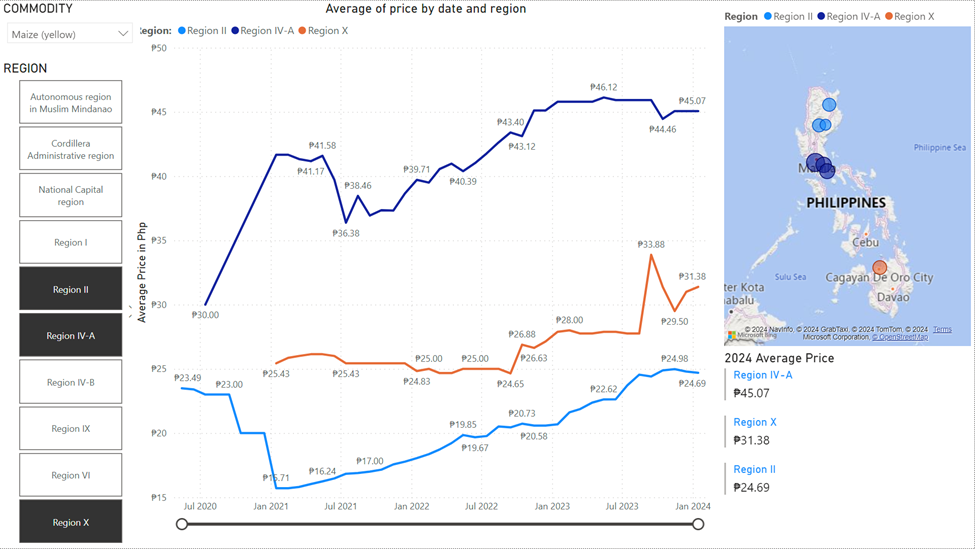

The page's visual inventory and layout, read from the dashboard file:
{"tool":"powerbi","page":{"name":"Price Trend by Region and Commodity","canvas":[1280,720],"ordinal":0},"visuals":[{"type":"slicer","title":"REGION","fields":{"Values":["wfp_food_prices_phl.region"]},"box":[0,78.5,185.2,641.3],"z":0},{"type":"lineChart","fields":{"Category":["wfp_food_prices_phl.date"],"Y":["Avg(wfp_food_prices_phl.price)"],"Series":["wfp_food_prices_phl.region"]},"box":[173.4,0,773,720.1],"z":1000},{"type":"slicer","title":"COMMODITY","fields":{"Values":["wfp_food_prices_phl.commodity"]},"box":[0,0,185.2,78.5],"z":2000},{"type":"map","title":"Average Price as of 2024","fields":{"Y":["wfp_food_prices_phl.latitude"],"X":["wfp_food_prices_phl.longitude"],"Series":["wfp_food_prices_phl.region"],"Size":["Avg(wfp_food_prices_phl.price)"]},"box":[946.4,0,333.6,459.1],"z":3000},{"type":"multiRowCard","title":"2024 Average Price","fields":{"Values":["wfp_food_prices_phl.price","wfp_food_prices_phl.region"]},"box":[946.4,459.1,333.6,261],"z":4000}]}

Visuals, with their boxes in screenshot pixels (x1, y1, x2, y2), scaled from the page's 1280x720 canvas onto the 975x549 screenshot:
"REGION" slicer: [x1=0, y1=60, x2=141, y2=548]
lineChart - wfp_food_prices_phl.date x Avg(wfp_food_prices_phl.price): [x1=132, y1=0, x2=721, y2=548]
"COMMODITY" slicer: [x1=0, y1=0, x2=141, y2=60]
"Average Price as of 2024" map: [x1=721, y1=0, x2=974, y2=350]
"2024 Average Price" multiRowCard: [x1=721, y1=350, x2=974, y2=548]
